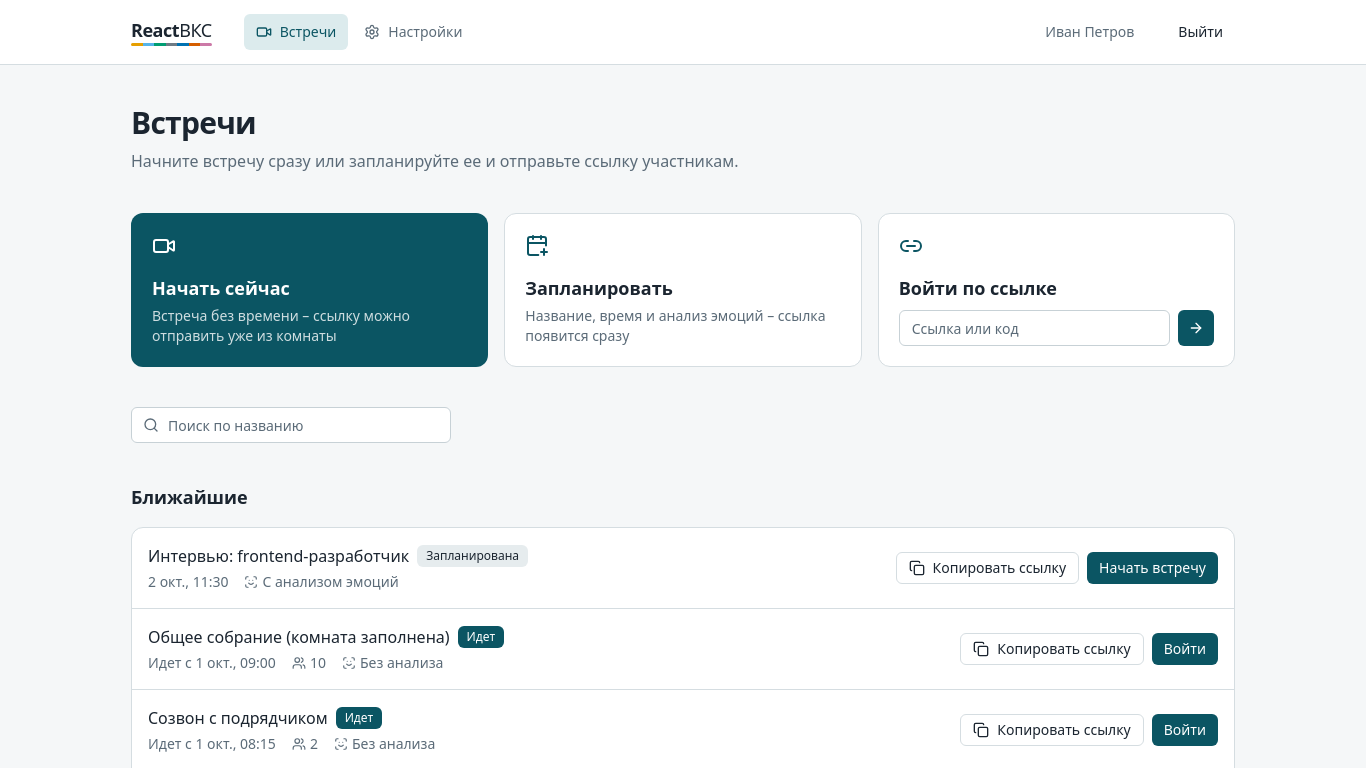
Test: главная организатора › поиск по названию (после паузы ввода) применяется к обоим разделам
The image size is (1366, 768).
Type "ретро" into the search field labelled "Поиск по названию". click: x=291, y=425
box: [131,407,451,443]
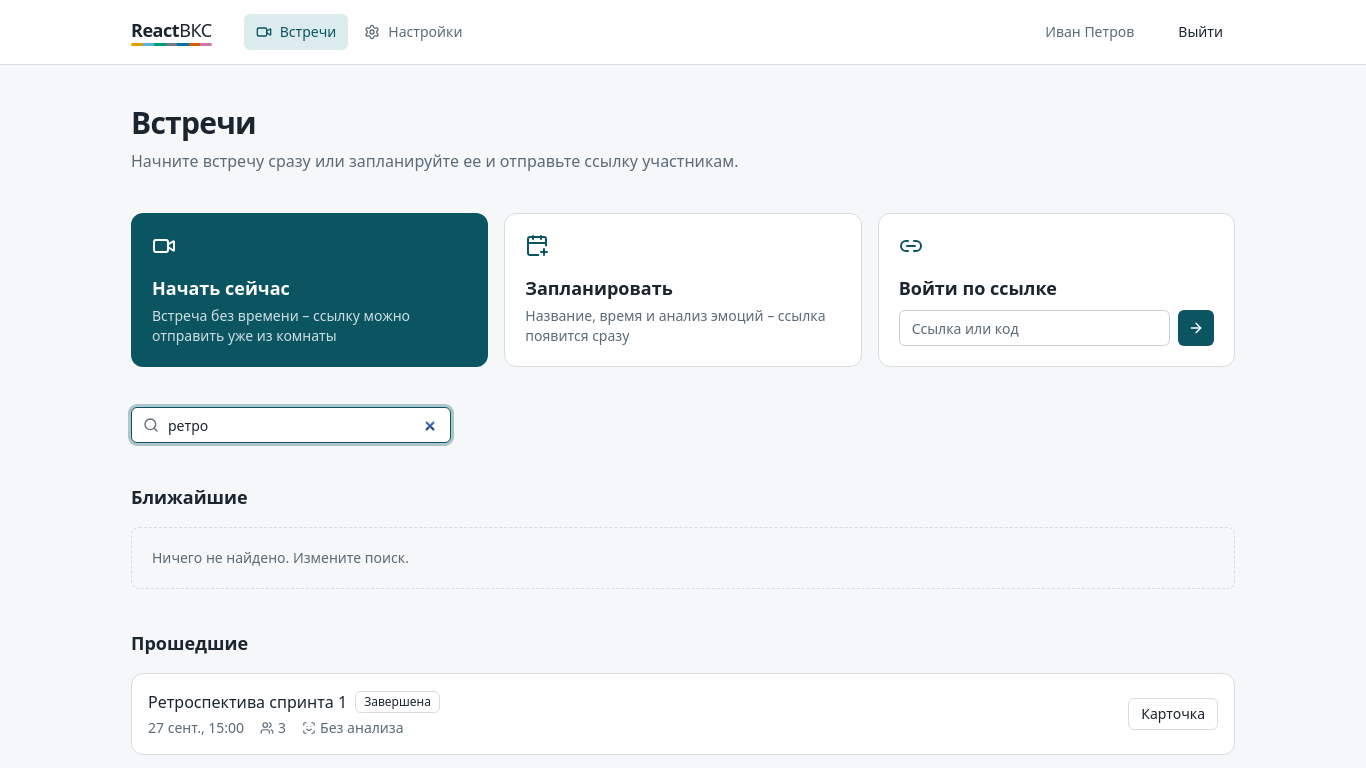
Check: the element "Прошедшие" does not show "Демонстрация прототипа", box [131,629,1235,755]
Check: the element "Ближайшие" shows "Ничего не найдено", box [152,548,409,567]
Replace the text in the search field with "такого нет". click: x=291, y=425
box: [131,407,451,443]
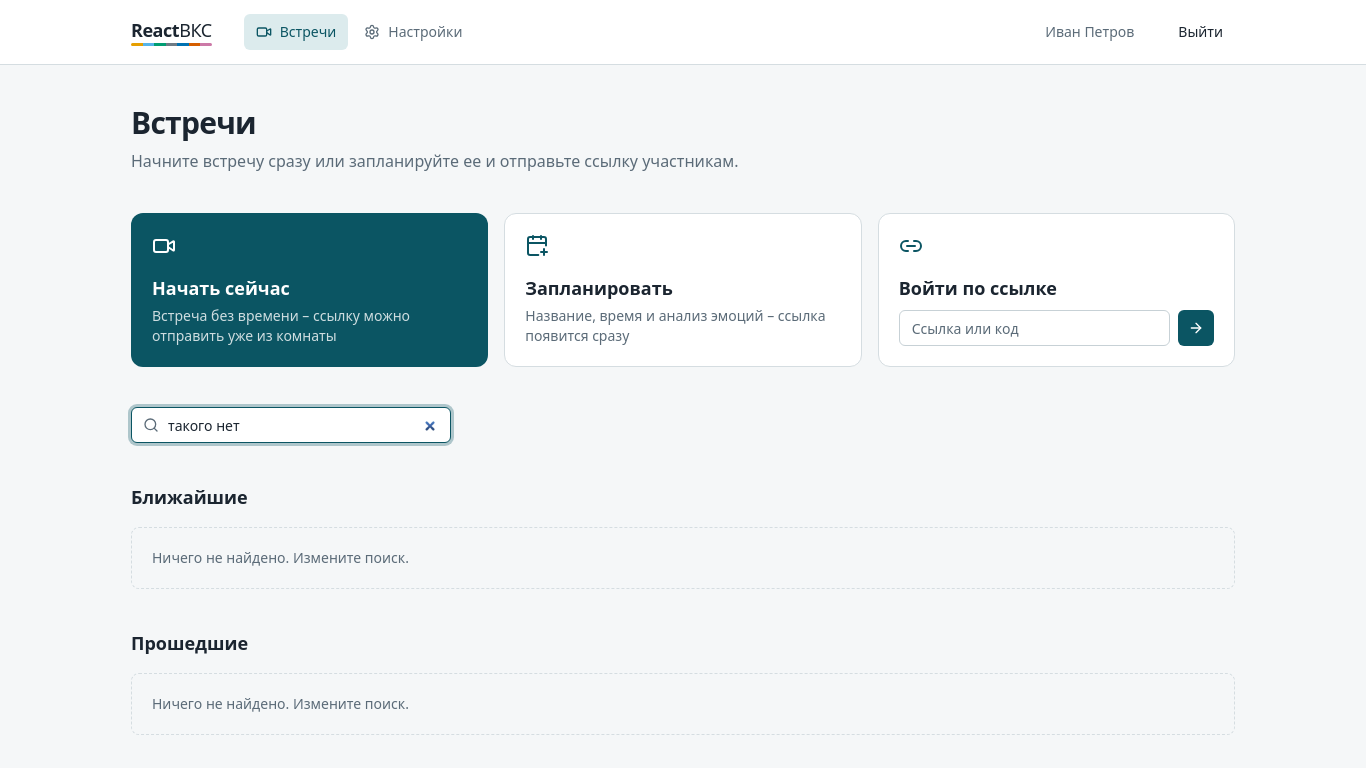
Check: the text "Ничего не найдено. Измените поиск." is shown 2 times, box [131,527,1235,589]; [131,673,1235,735]
